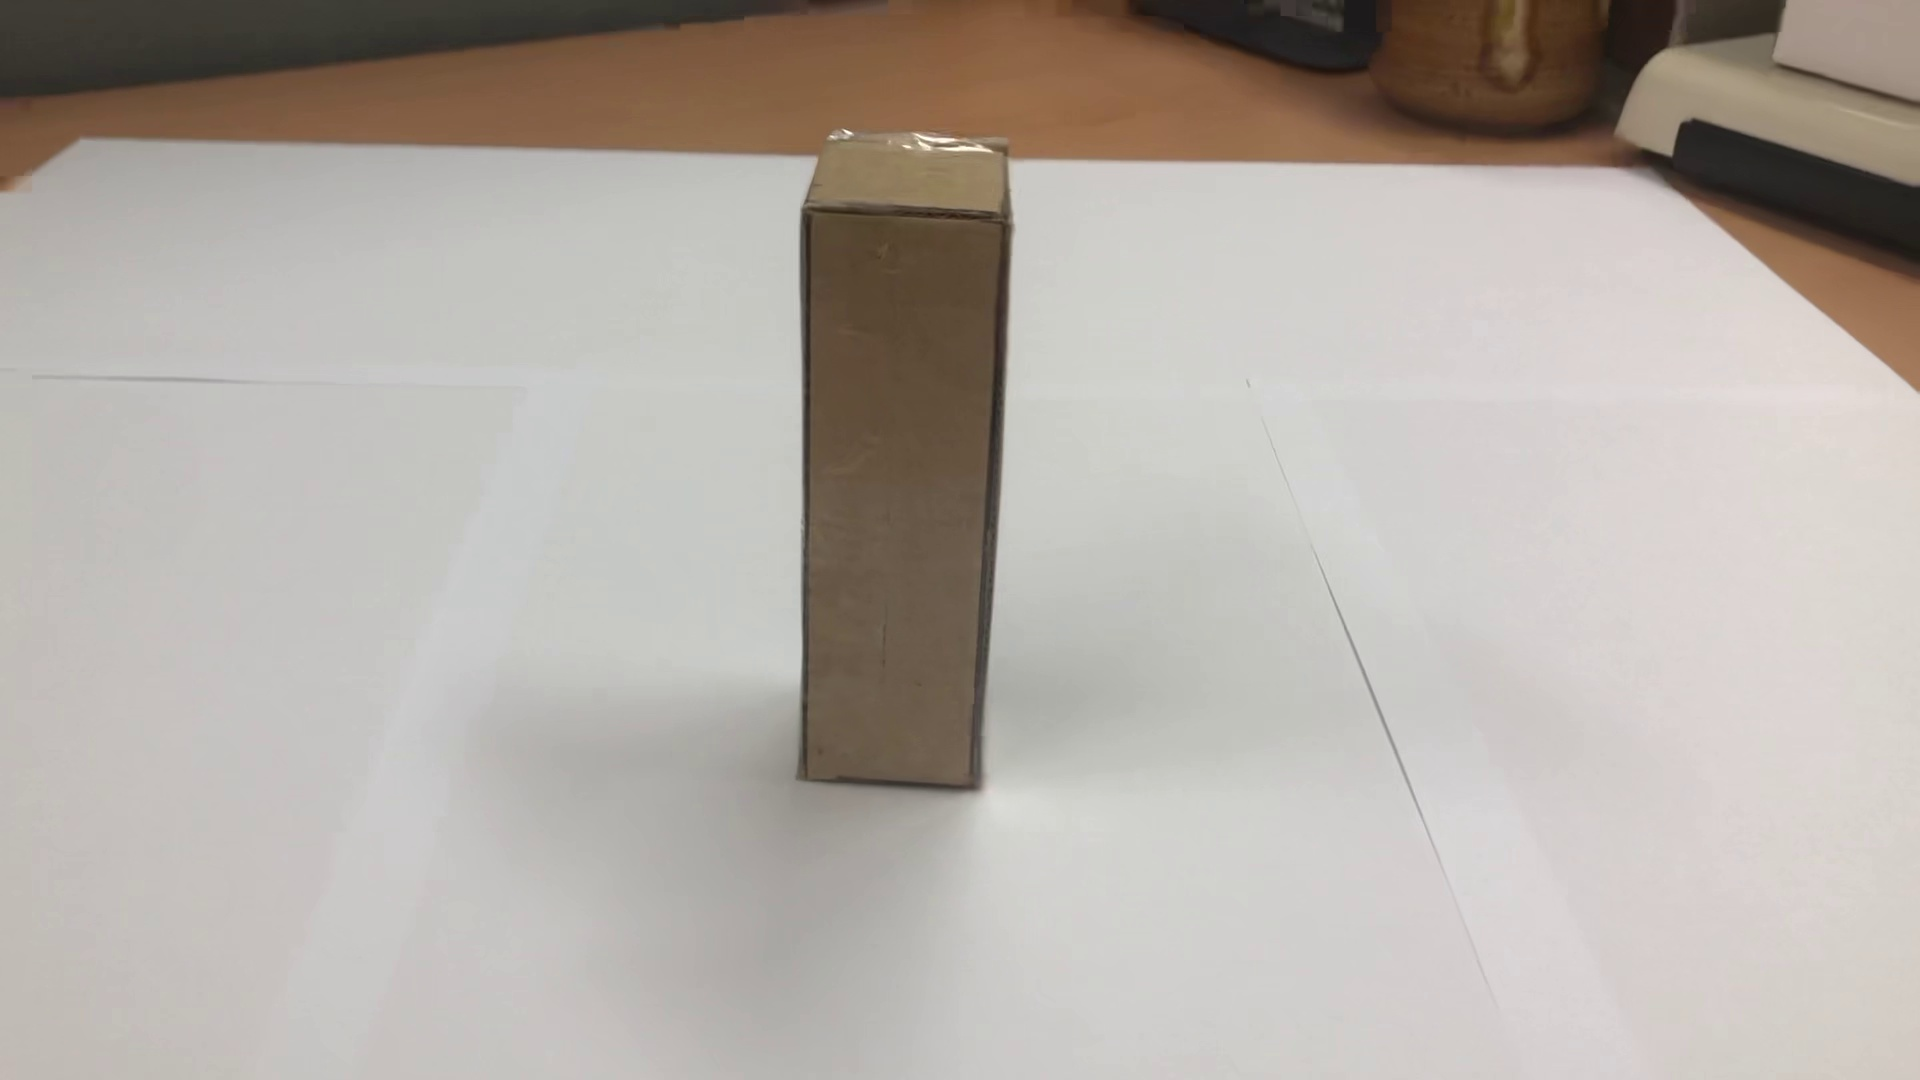box: (781, 98, 1034, 798)
